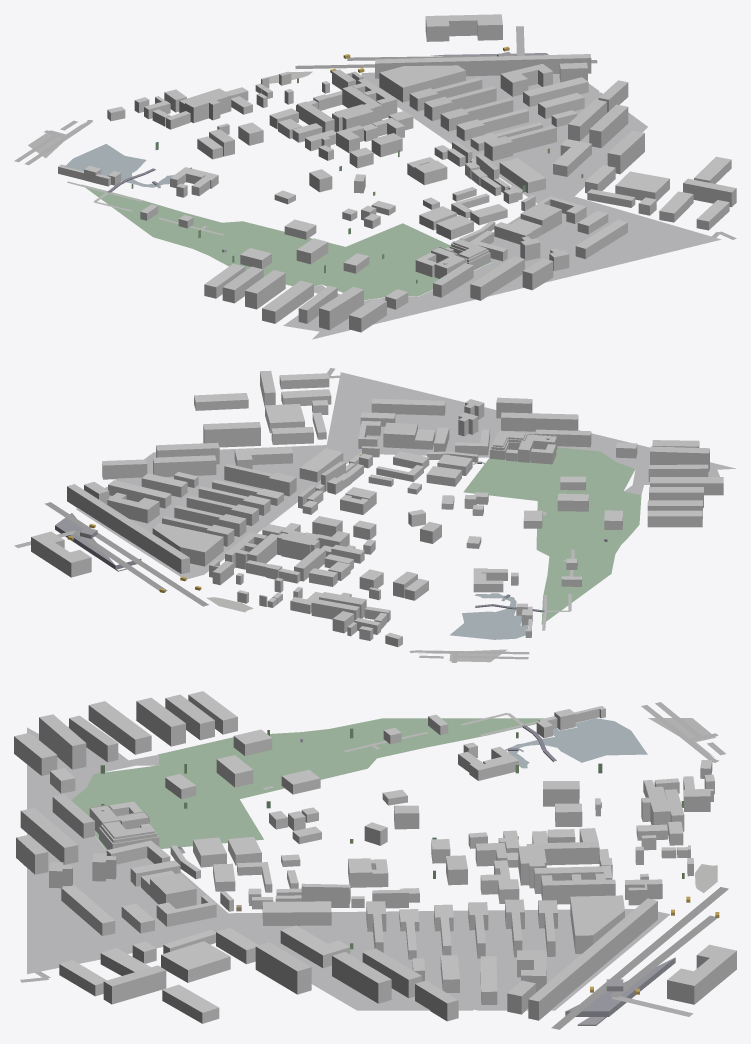
3 views of the same model, one above another, from view 1: azimuth 30°, elevation 25°; view 2: azimuth 150°, elevation 25°; view 3: azimuth 270°, elevation 25° (orthographic). The views are drawn at different scales.
Size of the model in its own units: 559 by 31.17 by 523.
